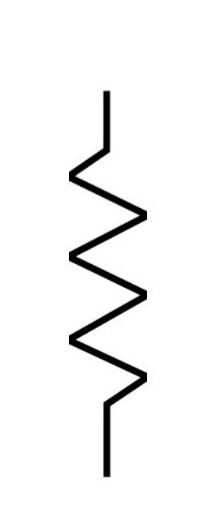resistor: (42, 104, 174, 468)
